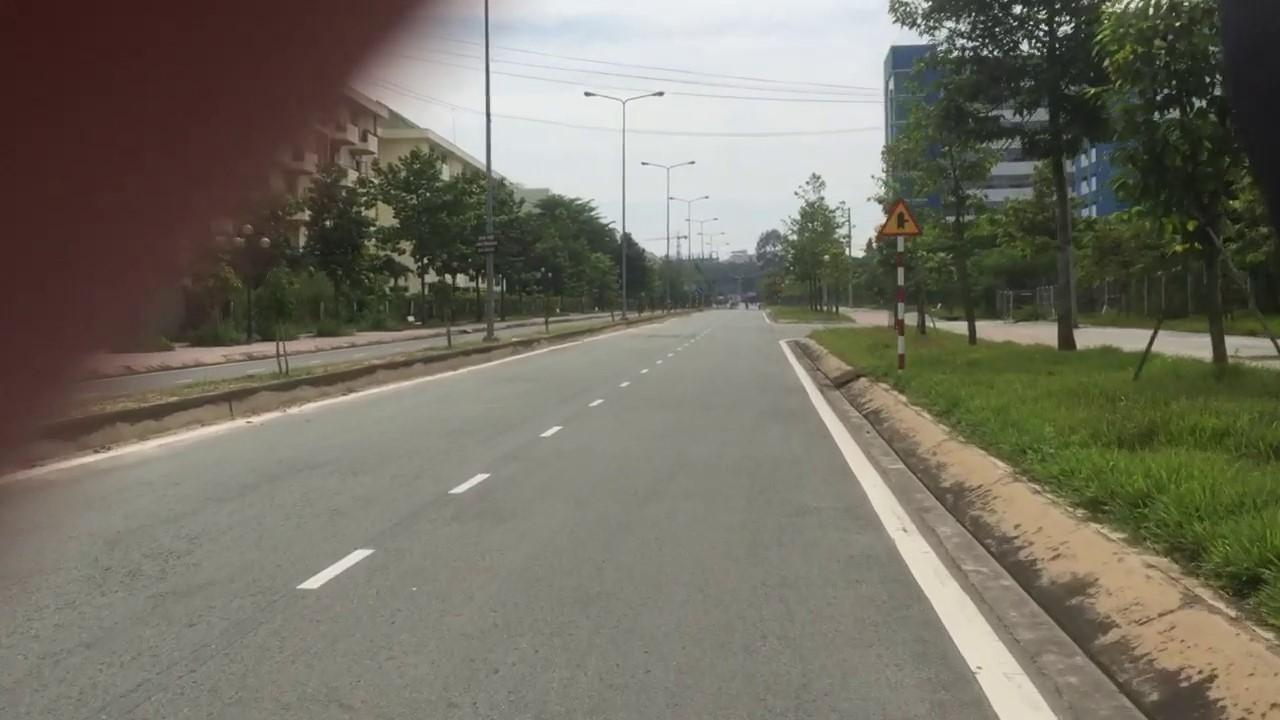P.127: (874, 196, 921, 236)
